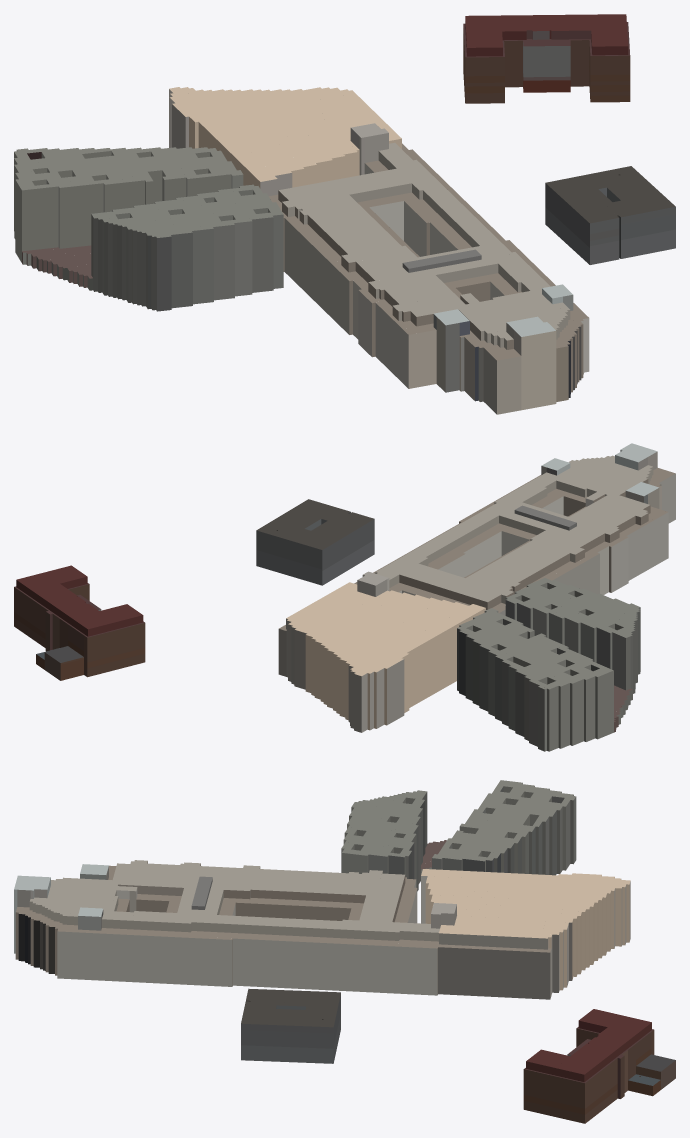
File: t_-1_-4.far.glb
3 views of the same model, one above another, from view 1: azimuth 30°, elevation 25°; view 2: azimuth 150°, elevation 25°; view 3: azimuth 270°, elevation 25° (orthographic). The views are drawn at different scales.
Visible parts, largest first — view 1: opaque; view 2: opaque; view 3: opaque.
Boxes of the visible parts, x1=… form: opaque: x1=14, y1=14, x2=675, y2=414; opaque: x1=14, y1=443, x2=675, y2=751; opaque: x1=14, y1=780, x2=675, y2=1123.
Size of the model in its own units: 199 by 23.2 by 199.
Materials: 1 (1 with a texture image).
